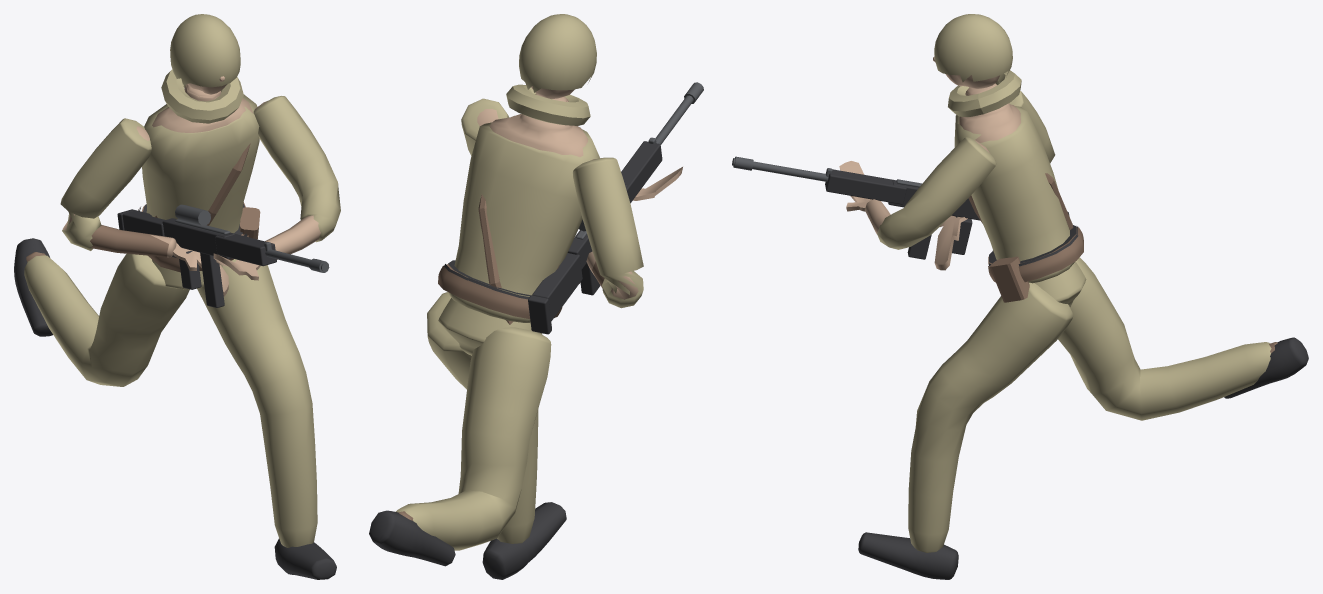
File: tactical-shooter-hill-town-desert-scout-running-7e5f8bc4__27582.glb
3 renders of one model, left to right at view 1: azimuth 30°, elevation 25°; view 2: azimuth 150°, elevation 25°; view 3: azimuth 270°, elevation 25°, orthographic. The views are drawn at different scales.
Parts seen in each view (by area): view 1: desert-scout-running; view 2: desert-scout-running; view 3: desert-scout-running.
Part boxes in pixels (x1=…): desert-scout-running: x1=14, y1=14, x2=340, y2=579; desert-scout-running: x1=369, y1=14, x2=703, y2=579; desert-scout-running: x1=732, y1=14, x2=1308, y2=579.
Size of the model in its own units: 0.647 by 1.62 by 1.6.
